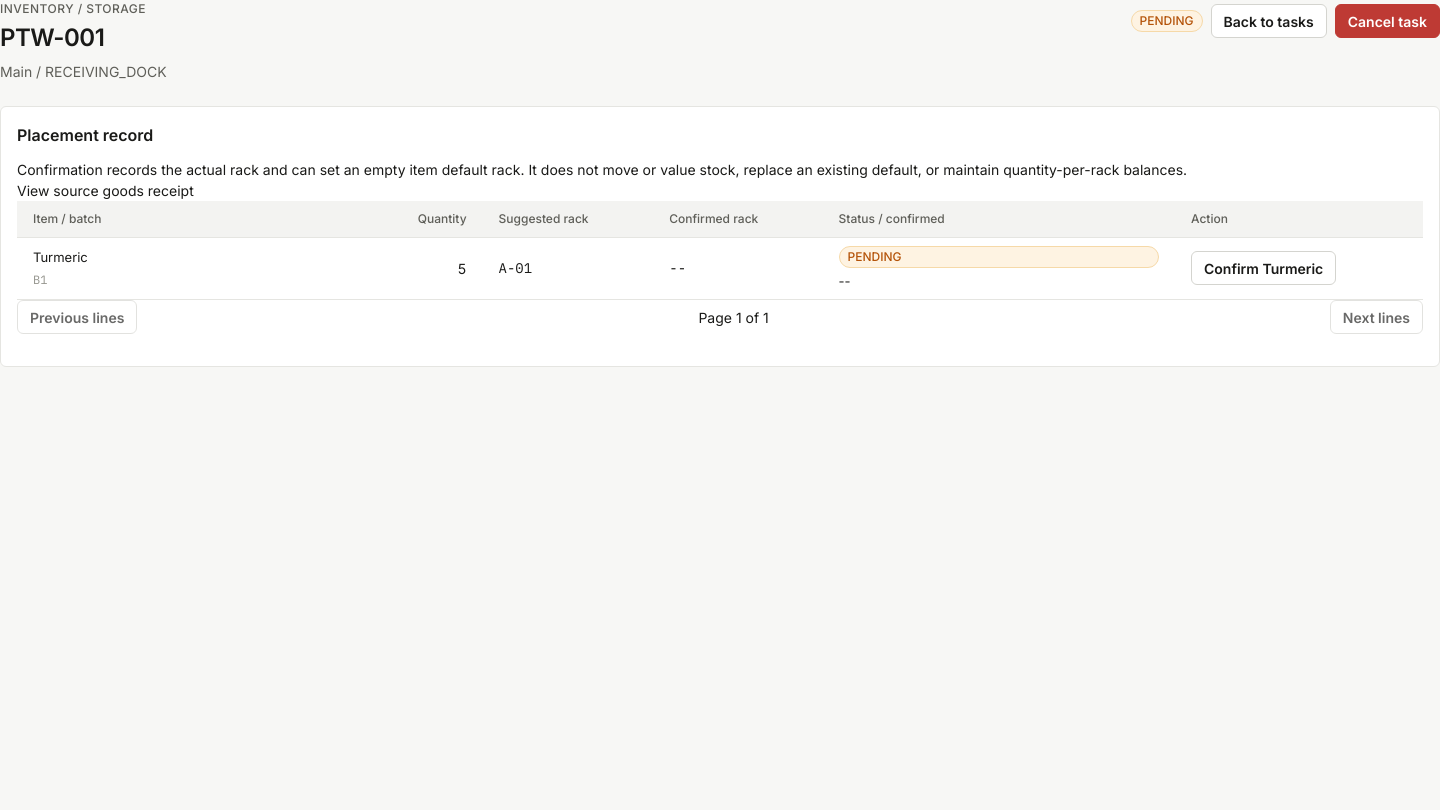
Test: confirms the line and actual rack after checking the current task state
This screenshot has width=1440, height=810.
Click the button "Confirm Turmeric": (1264, 268) [1191,251,1336,285]
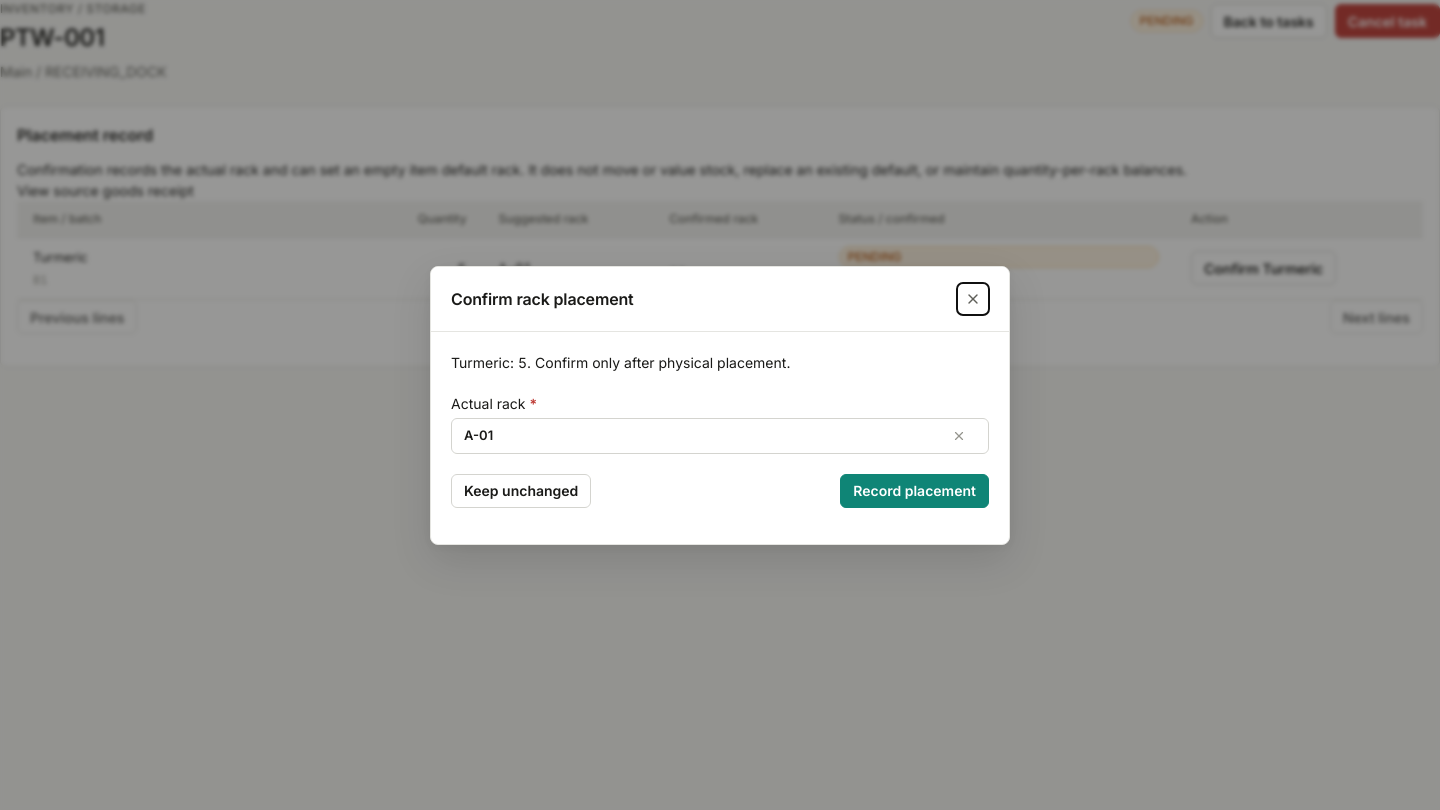
Expected: the text "A-01" is shown, [464,427,493,443]
Click the button "Record placement": (915, 490) [840,474,989,508]
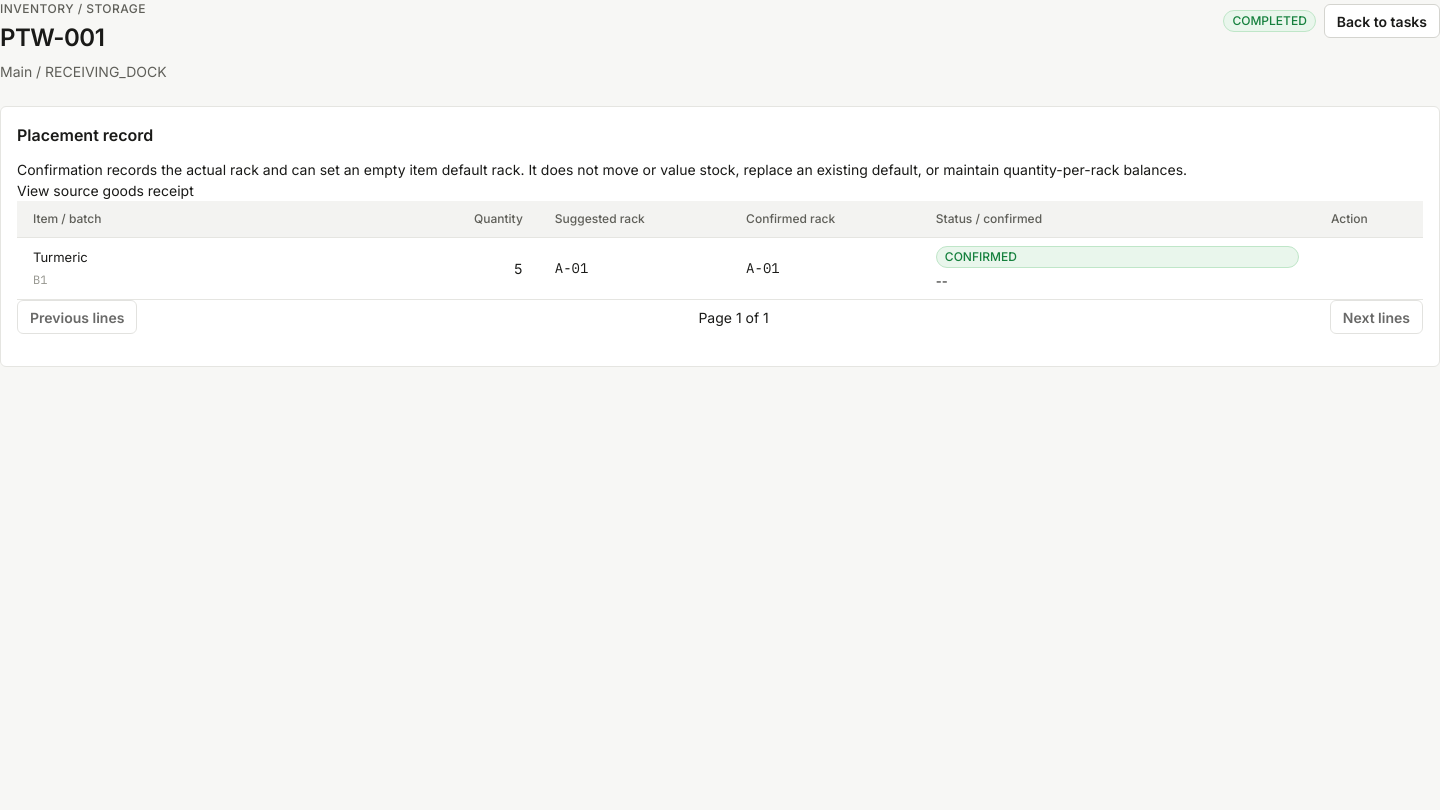
Expected: the text "COMPLETED" is shown, [1223,10,1316,32]
